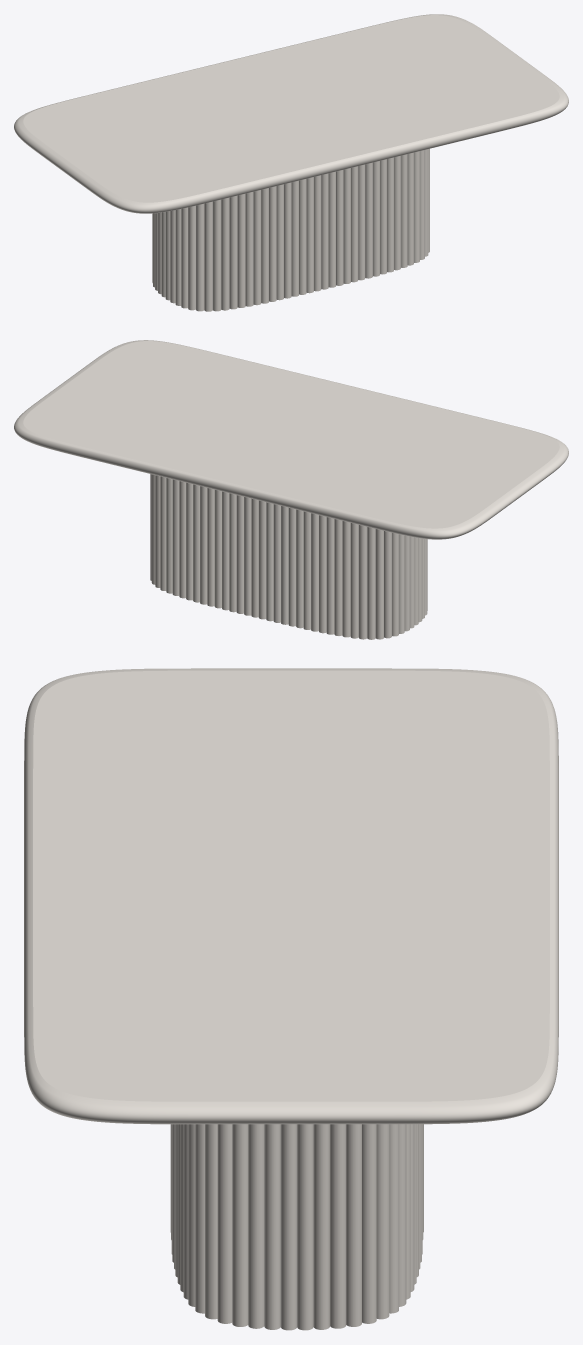
Rendered from pearlwhite_softrecta_round_newtable.glb.
The picture shows the model from 3 angles, top to bottom: view 1: azimuth 30°, elevation 25°; view 2: azimuth 150°, elevation 25°; view 3: azimuth 270°, elevation 25°; orthographic projection. The views are drawn at different scales.
Parts seen in each view (by area): view 1: round_softrecta, newtable; view 2: round_softrecta, newtable; view 3: round_softrecta, newtable.
Part boxes in pixels (left/top/right/bottom): round_softrecta: left=14, top=14, right=568, bottom=213; newtable: left=152, top=148, right=429, bottom=311; round_softrecta: left=14, top=340, right=568, bottom=539; newtable: left=150, top=474, right=427, bottom=639; round_softrecta: left=24, top=668, right=558, bottom=1124; newtable: left=170, top=1124, right=423, bottom=1330.
Bounding box in the file's own units: 7.5 × 2.5 × 3.8.
2 materials, 2 textured.
